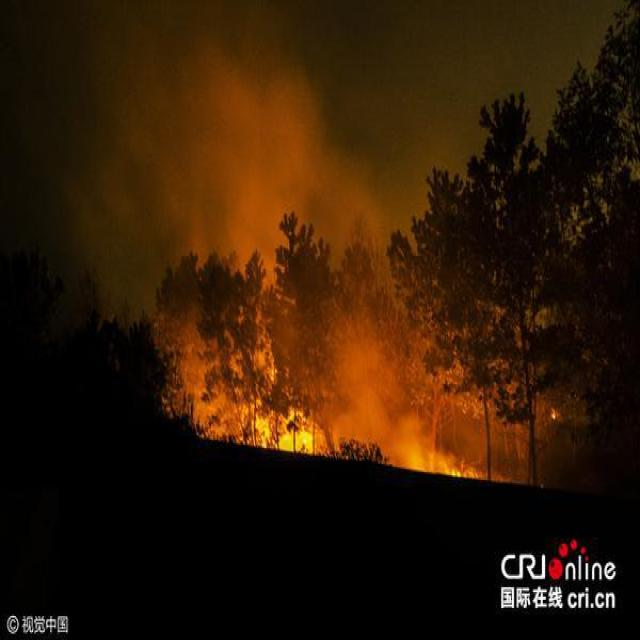fire: (197, 358, 491, 482)
